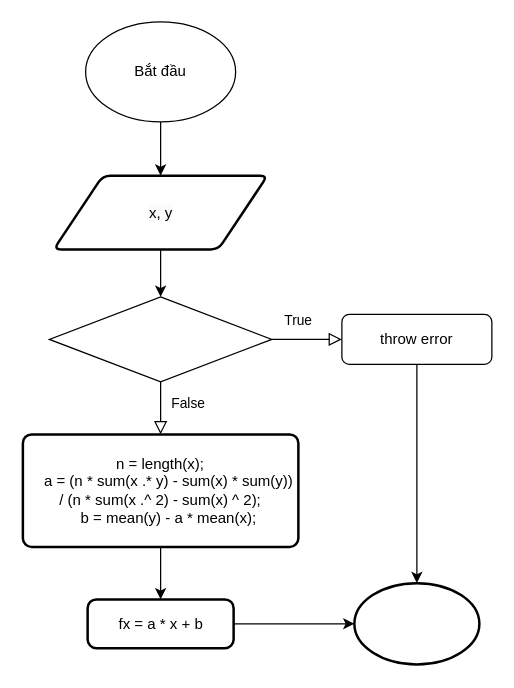
Some shapes in this 514 by 688 pixel diagram are drawn without their labels. The shapes that lost their labels are listed below. From the top down, each one's centre as x and y in pixels, then its label:
At (160,339): "length(x) ~= length(y)".
At (416,623): "Kết thúc".
